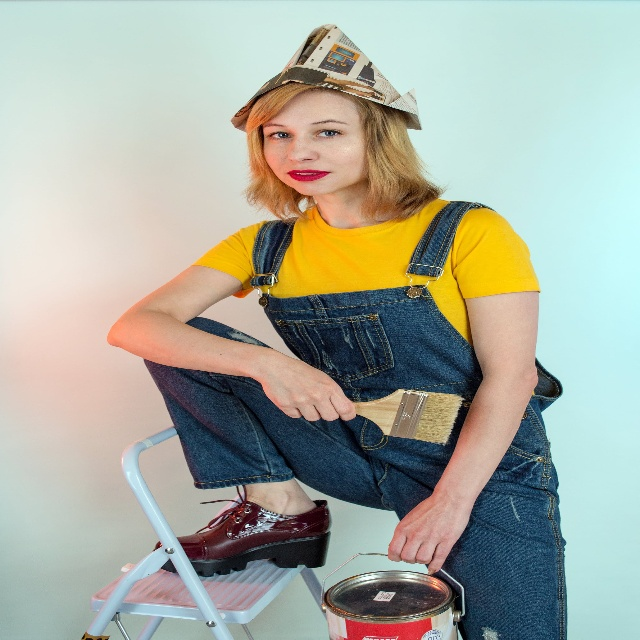Sin_guantes: (263, 343, 358, 427), (384, 486, 472, 575)
